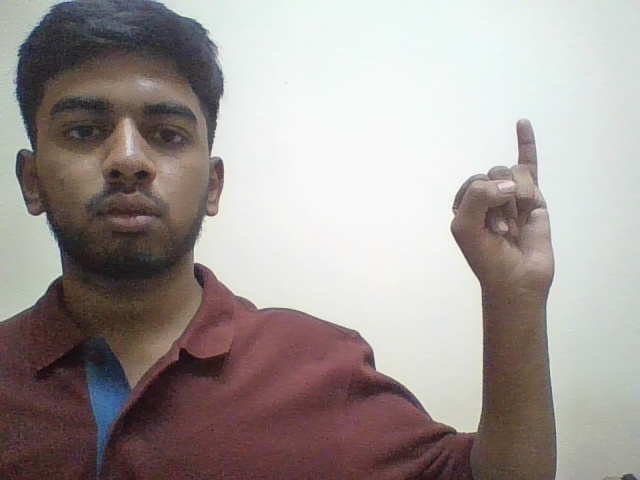I: (442, 103, 571, 312)
